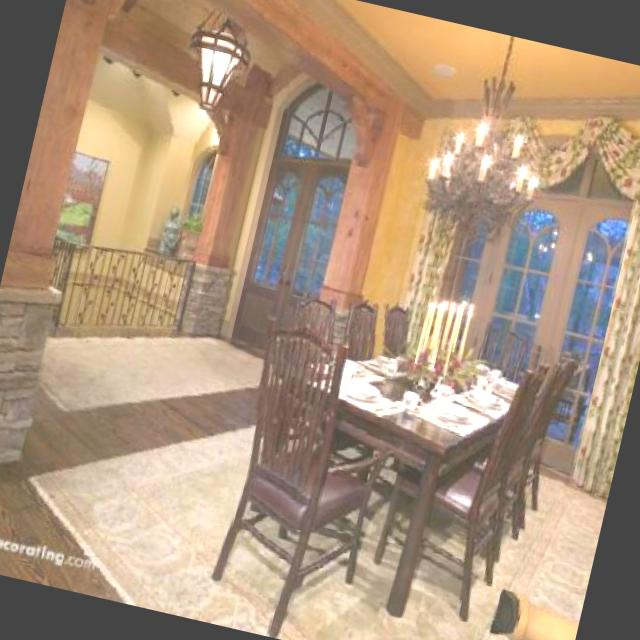Person: (468, 575, 584, 640)
